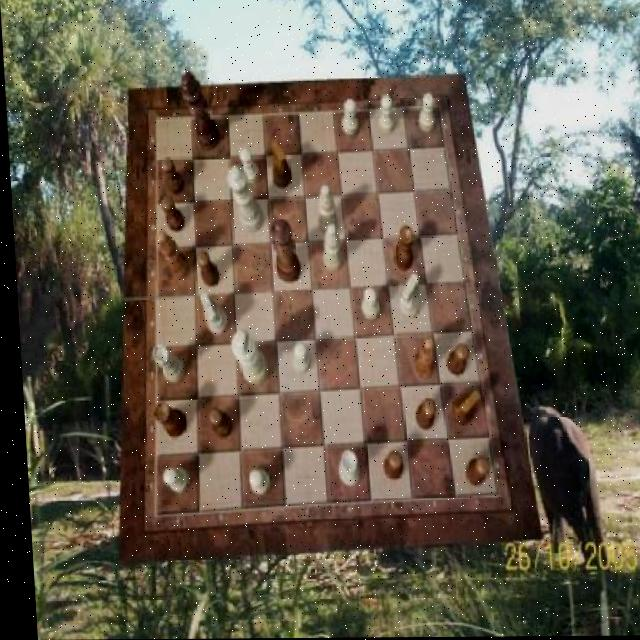bishop: (154, 230, 187, 279), (407, 337, 432, 380)
black-bishop: (180, 71, 219, 151)
black-king: (446, 390, 477, 426), (268, 142, 289, 189)
black-knight: (159, 197, 183, 234), (160, 158, 184, 195), (193, 251, 217, 287), (441, 345, 465, 378), (460, 457, 485, 488), (409, 399, 432, 431), (204, 410, 228, 439), (378, 452, 399, 479)
black-pawn: (268, 220, 298, 284)
black-queen: (148, 402, 183, 438), (389, 225, 412, 271)
black-rook: (315, 186, 337, 237), (318, 224, 340, 272)
white-bishop: (226, 329, 264, 384)
white-king: (197, 293, 226, 335), (393, 273, 417, 319)
white-knight: (236, 148, 257, 184), (415, 94, 434, 133), (157, 468, 185, 494), (376, 96, 393, 136), (339, 100, 357, 137), (287, 343, 306, 376), (357, 289, 376, 321), (243, 469, 266, 495)
white-pawn: (225, 167, 262, 233)
white-queen: (149, 345, 180, 384), (332, 449, 356, 486)
